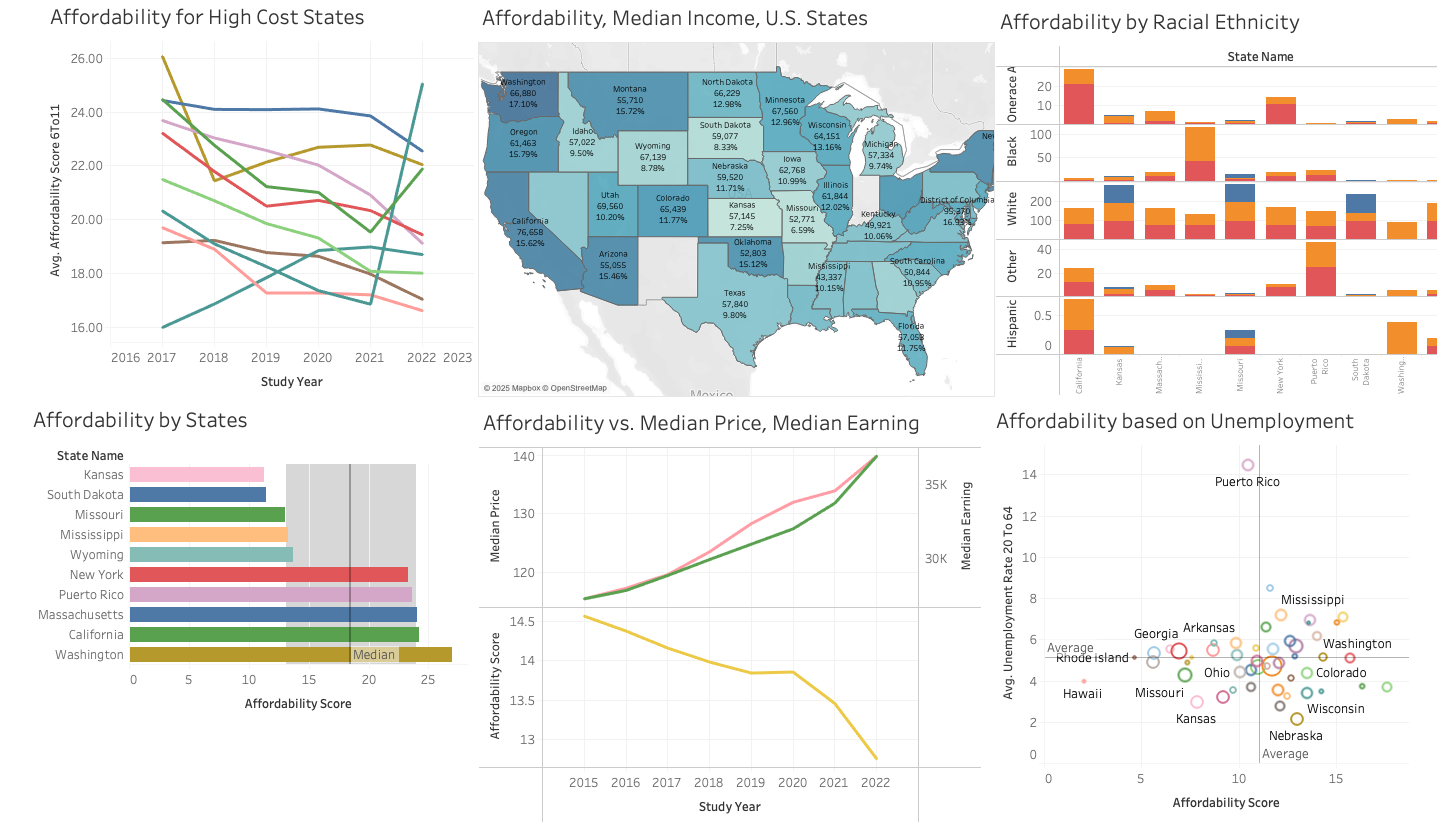

Layout of this report page (visuals, bound fields, positions):
{"tool":"tableau","page":{"name":"Dashboard 1","canvas":[1000,1000],"units":"permille","ordinal":0},"visuals":[{"type":"worksheet","title":"Affordability across Years for High Cost States","mark":"Line","rows":["AFFORDABILITY_SCORE_6TO11"],"cols":["STUDYYEAR"],"box":[20.1,0,306,481]},{"type":"worksheet","title":"Median Income & Affodability Child Birth to 5 Months","mark":"Multipolygon","box":[328.5,1.5,369.5,479.4]},{"type":"worksheet","title":"Affordability by States","mark":"Automatic","rows":["STATE_NAME"],"cols":["AFFORDABILITY_SCORE_C_BTO5"],"box":[8,485.5,313.2,508.4]},{"type":"worksheet","title":"Affordbility for School Age Children based on Unemployment Rate","mark":"Automatic","rows":["UNEMPLOYMENT_RATE_20_TO_64"],"cols":["AFFORDABILITY_SCORE_C_SA"],"box":[695.6,487.1,298,500.8]},{"type":"worksheet","title":"Median Price,  Earnings Vs Affordability","mark":"Line","rows":["MEDIAN_PRICE_FCCC_6TO11","MEDIAN_EARNING","AFFORDABILITY_SCORE_36TO41"],"cols":["STUDYYEAR"],"box":[329.3,488.6,359,505.3]}]}

Visuals, with their boxes on the dashboard's canvas, which has no fixed pixel size, in thousandths of its width and height (x1, y1, x2, y2). These are canvas units, not pixel positions in the 1437x823 screenshot, which may show the page scaled, cropped or inside an application window:
"Affordability across Years for High Cost States" worksheet (Line marks): crop(20, 0, 326, 481)
"Median Income & Affodability Child Birth to 5 Months" worksheet (Multipolygon marks): crop(328, 2, 698, 481)
"Affordability by States" worksheet: crop(8, 486, 321, 994)
"Affordbility for School Age Children based on Unemployment Rate" worksheet: crop(696, 487, 994, 988)
"Median Price,  Earnings Vs Affordability" worksheet (Line marks): crop(329, 489, 688, 994)
